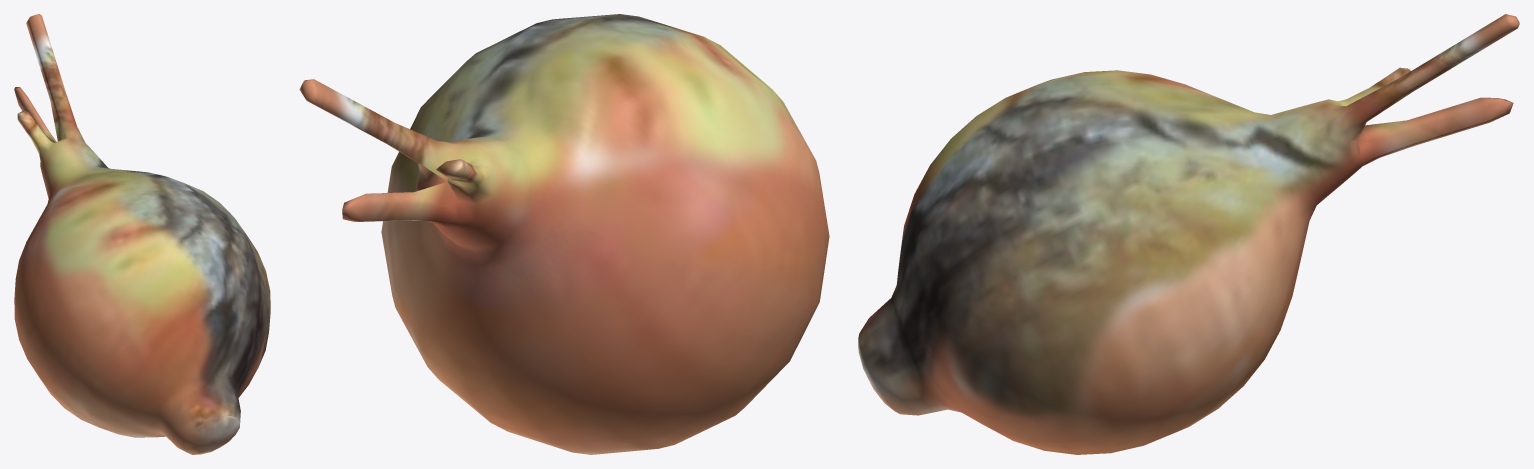
File: pickup_onion.fbx
3 views of the same model, side by side, from view 1: azimuth 30°, elevation 25°; view 2: azimuth 150°, elevation 25°; view 3: azimuth 270°, elevation 25° (orthographic). The views are drawn at different scales.
Visible parts, largest first — view 1: onion; view 2: onion; view 3: onion.
Part boxes in pixels (<box>): onion: <box>14,14,270,454</box>; onion: <box>299,14,829,454</box>; onion: <box>858,14,1519,454</box>.
Bounding box in the file's own units: 20.3 × 26.28 × 35.33.
Materials: 1 (1 with a texture image).
